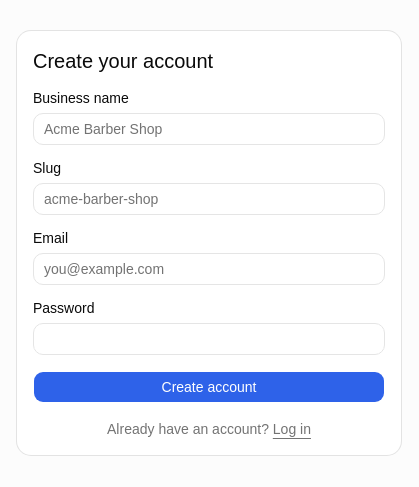
Test case: Register page › shows "This URL is already taken" on slug field for slug_taken
Type "Test Biz" into the field labelled "Business name". click: {"x": 209, "y": 129}
box: [33,113,385,145]
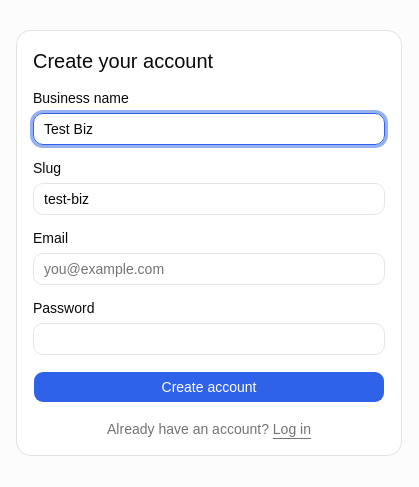
Type "owner@test.com" into the field labelled "Email". click: {"x": 209, "y": 269}
box: [33,253,385,285]
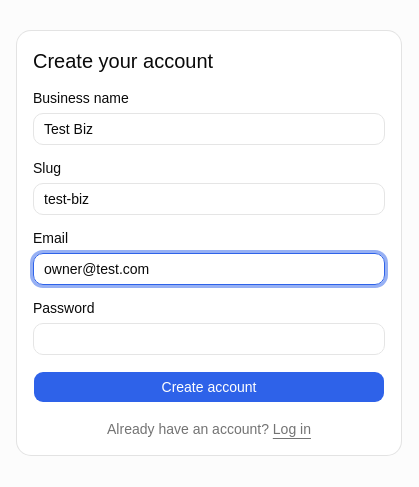
Type "password123" into the password field labelled "Password". click: {"x": 209, "y": 339}
box: [33,323,385,355]
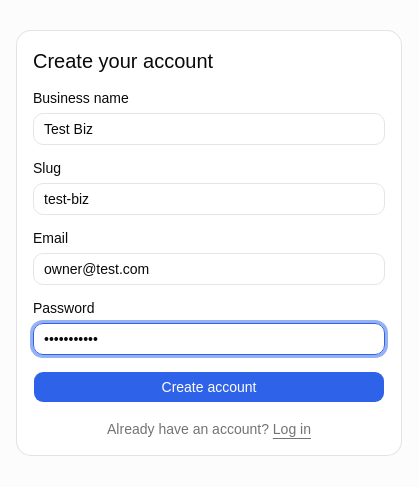
Click the button "Create account". click: {"x": 209, "y": 387}
box: [33,371,385,403]
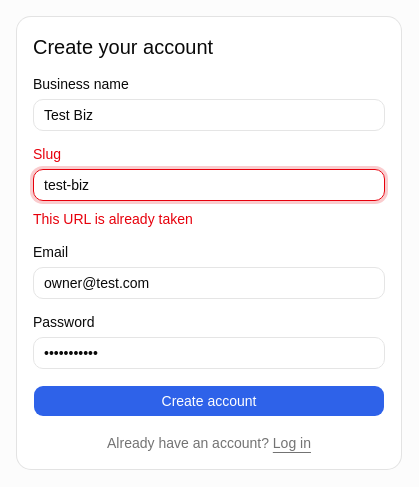
Result: the text "This URL is already taken" is shown at [33,211,193,227]
